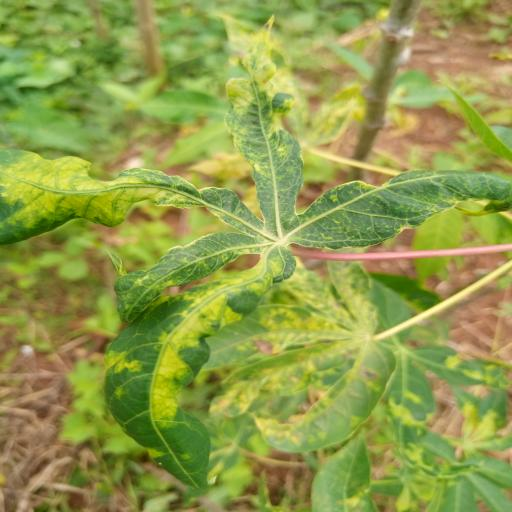Cassava_Mosaic: (0, 17, 509, 488), (208, 257, 437, 458)
